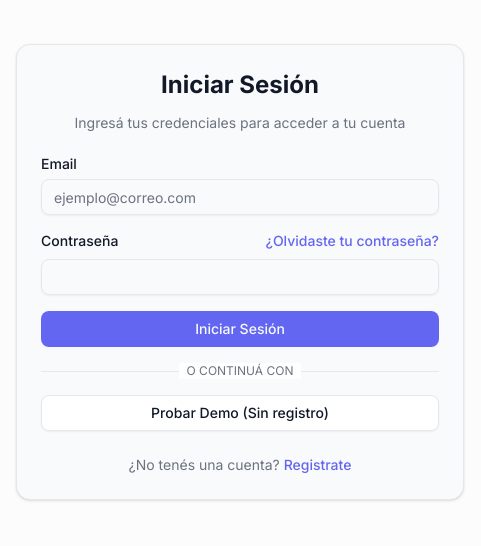
LoginPage › shows validation errors for empty fields
Step 1. Click the button "Iniciar Sesión" → (240, 329), box 41,311 -> 439,347
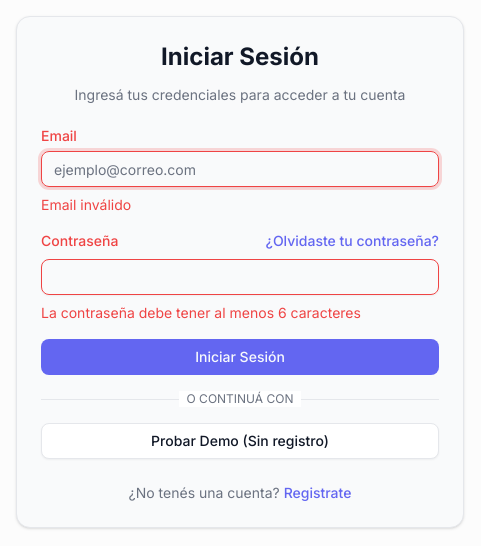
Now the text "Email inválido" is shown, box 41,196 -> 131,213
Now the text "La contraseña debe tener al menos 6 caracteres" is shown, box 41,304 -> 361,321
